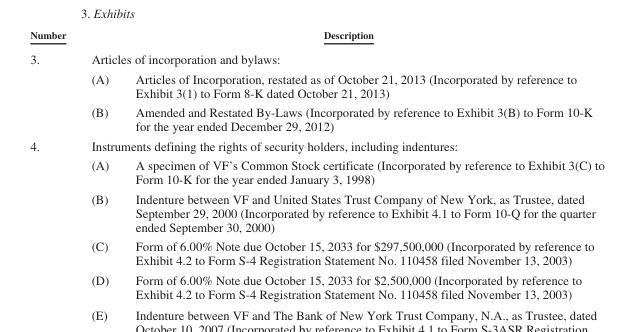table: (29, 29, 603, 300)
table column: (121, 29, 603, 300), (29, 29, 78, 300), (78, 29, 121, 300)
table column header: (29, 29, 603, 135)
table row: (29, 68, 603, 135), (29, 188, 603, 236), (29, 29, 603, 68), (29, 155, 603, 188), (29, 236, 603, 269), (29, 269, 603, 300), (29, 135, 603, 155)
table spanning cell: (78, 29, 603, 68), (78, 135, 603, 155), (29, 135, 78, 300), (29, 29, 78, 135)
